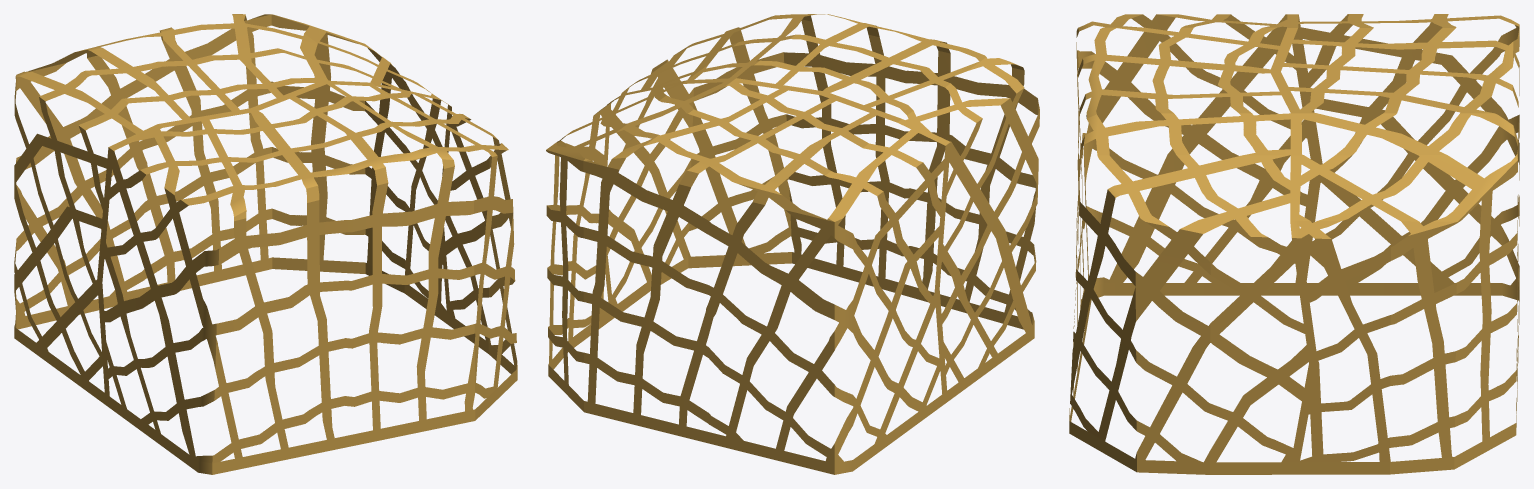
The model's file is SM_Prop_Crate_Stack_Cover_01.glb.
The picture shows the model from 3 angles, left to right: view 1: azimuth 30°, elevation 25°; view 2: azimuth 150°, elevation 25°; view 3: azimuth 270°, elevation 25°; orthographic projection. The views are drawn at different scales.
Visible parts, largest first — view 1: SM_Prop_Crate_Stack_Cover_01; view 2: SM_Prop_Crate_Stack_Cover_01; view 3: SM_Prop_Crate_Stack_Cover_01.
Part boxes in pixels (bbox=[...]): SM_Prop_Crate_Stack_Cover_01: bbox=[14, 14, 517, 474]; SM_Prop_Crate_Stack_Cover_01: bbox=[546, 14, 1039, 474]; SM_Prop_Crate_Stack_Cover_01: bbox=[1069, 14, 1519, 474].
Bounding box in the file's own units: 1.59 × 1.22 × 1.68.
1 material, 1 textured.
